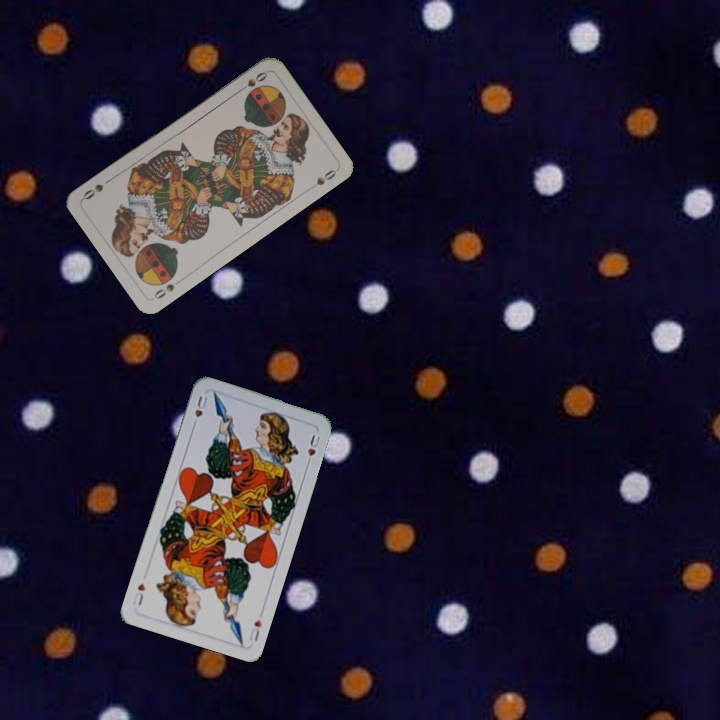HU: (190, 392, 210, 430), (245, 615, 264, 644)
SO: (234, 68, 270, 95), (150, 275, 185, 302)
